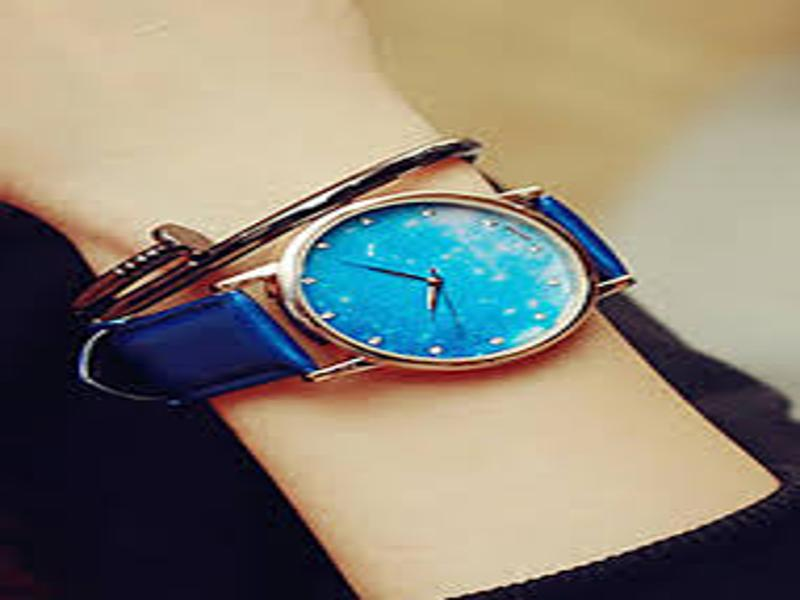watch: (77, 183, 641, 421)
